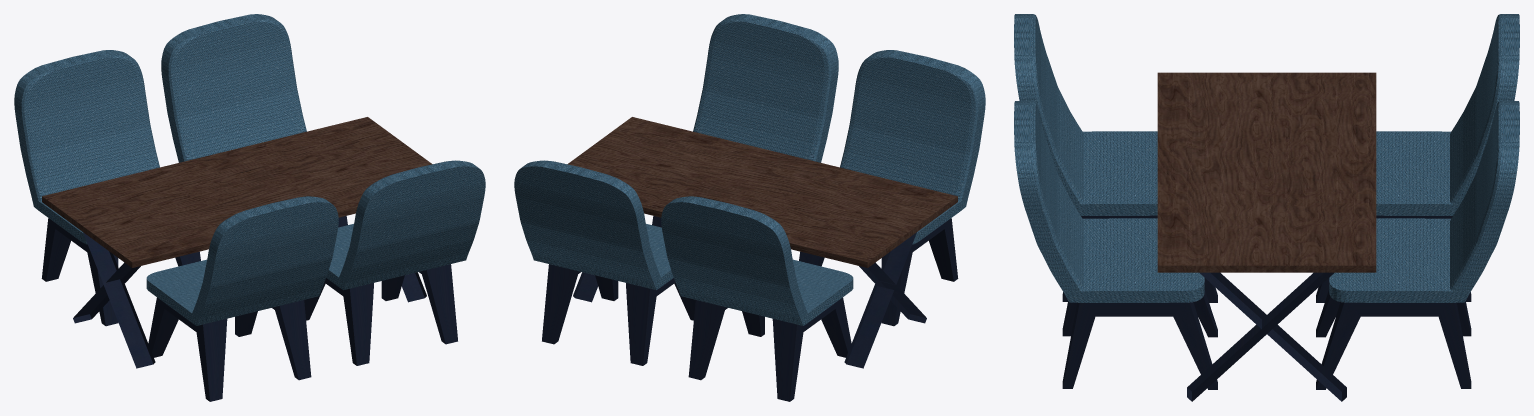
File: uploads_files_2186411_Dining+table.obj
The picture shows the model from 3 angles, left to right: view 1: azimuth 30°, elevation 25°; view 2: azimuth 150°, elevation 25°; view 3: azimuth 270°, elevation 25°; orthographic projection. The views are drawn at different scales.
Parts seen in each view (by area): view 1: Cube.001, Cube; view 2: Cube.001, Cube; view 3: Cube.001, Cube.
Boxes of the visible parts, x1=… form: Cube.001: x1=14, y1=14, x2=485, y2=401; Cube: x1=42, y1=117, x2=432, y2=368; Cube.001: x1=514, y1=14, x2=985, y2=401; Cube: x1=567, y1=117, x2=957, y2=368; Cube.001: x1=1014, y1=14, x2=1519, y2=389; Cube: x1=1157, y1=72, x2=1376, y2=401.
Size of what is drawn, in the model's own units: 4.18 by 2.4 by 4.62.
